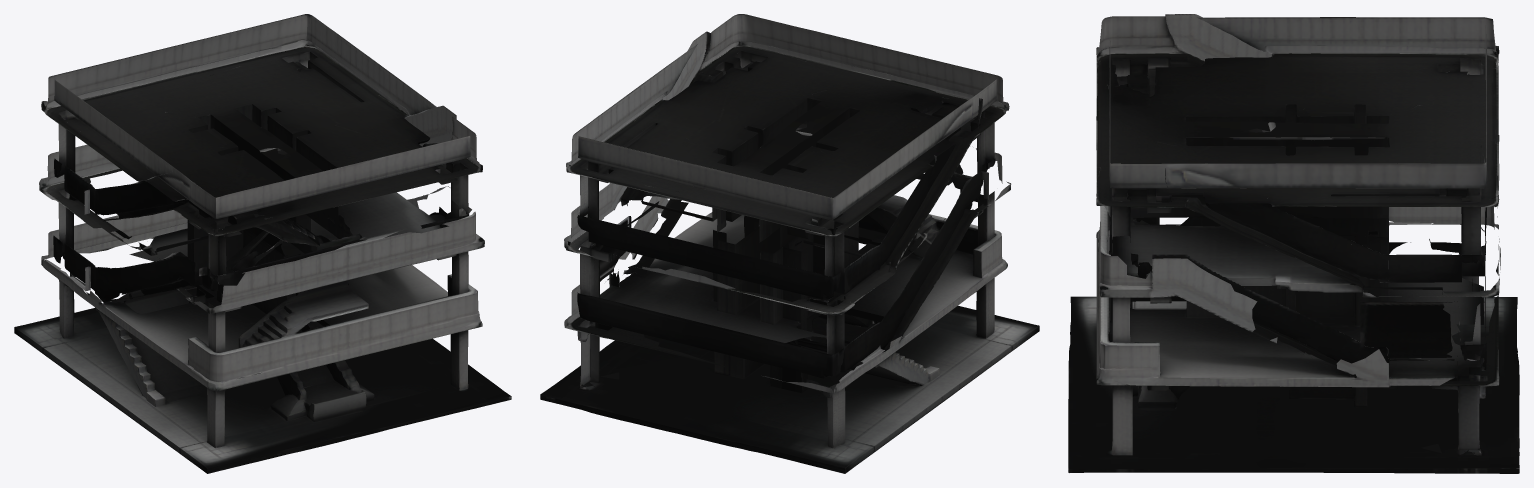
Rendered from parking-garage.glb.
3 renders of one model, left to right at view 1: azimuth 30°, elevation 25°; view 2: azimuth 150°, elevation 25°; view 3: azimuth 270°, elevation 25°, orthographic. The views are drawn at different scales.
Visible parts, largest first — view 1: geometry_0; view 2: geometry_0; view 3: geometry_0.
Boxes of the visible parts, x1=… form: geometry_0: x1=14, y1=14, x2=511, y2=473; geometry_0: x1=540, y1=14, x2=1039, y2=473; geometry_0: x1=1068, y1=14, x2=1519, y2=473.
Size of the model in its own units: 0.8996 by 0.7333 by 1.
1 material, 1 textured.
